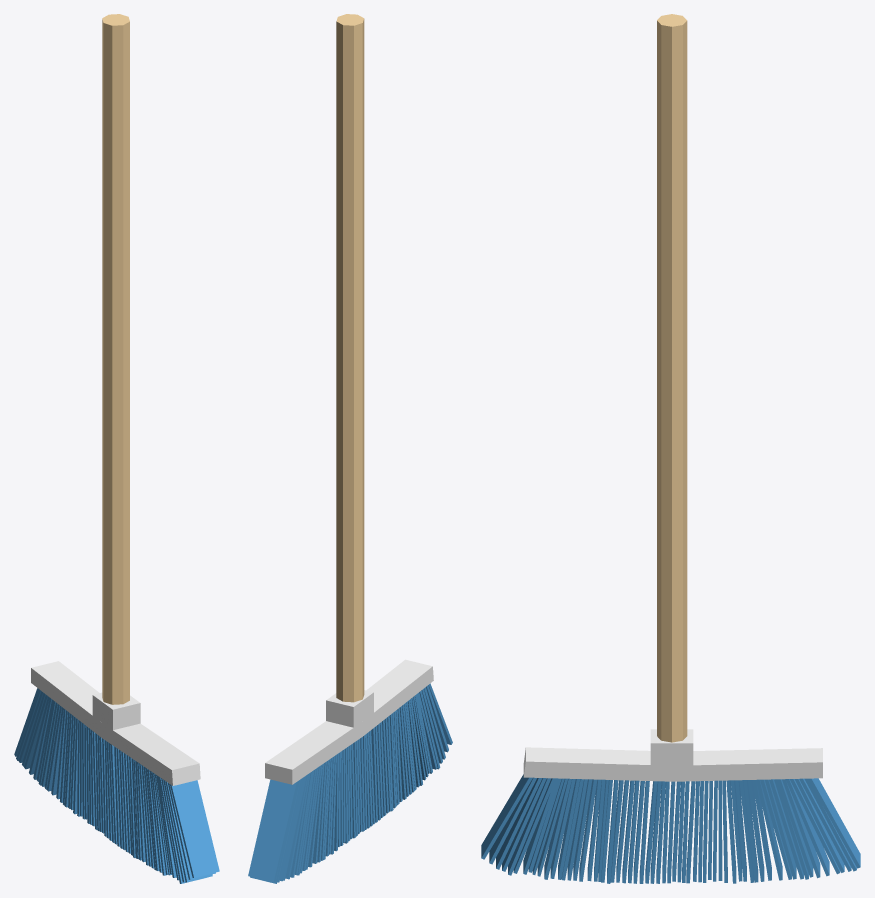
The model's file is Escoba_Azul.fbx.
3 renders of one model, left to right at view 1: azimuth 30°, elevation 25°; view 2: azimuth 150°, elevation 25°; view 3: azimuth 270°, elevation 25°, orthographic. The views are drawn at different scales.
Parts seen in each view (by area): view 1: Palo_Escoba.001, Base_escobetilla.001, Cerdas_Escobetilla.077, Base_2_escobetilla.001, Cerdas_Escobetilla.075; view 2: Palo_Escoba.001, Base_escobetilla.001, Cerdas_Escobetilla.064, Base_2_escobetilla.001; view 3: Palo_Escoba.001, Base_escobetilla.001, Base_2_escobetilla.001, Cerdas_Escobetilla.064, Cerdas_Escobetilla.077, Cerdas_Escobetilla.069.
Part boxes in pixels (<box>): Palo_Escoba.001: <box>102,14,129,704</box>; Base_escobetilla.001: <box>31,661,200,785</box>; Cerdas_Escobetilla.077: <box>169,780,219,877</box>; Base_2_escobetilla.001: <box>92,692,140,730</box>; Cerdas_Escobetilla.075: <box>165,781,212,882</box>; Palo_Escoba.001: <box>336,14,364,702</box>; Base_escobetilla.001: <box>265,659,433,784</box>; Cerdas_Escobetilla.064: <box>248,779,298,882</box>; Base_2_escobetilla.001: <box>326,690,373,727</box>; Palo_Escoba.001: <box>657,14,687,742</box>; Base_escobetilla.001: <box>523,747,822,781</box>; Base_2_escobetilla.001: <box>650,729,693,765</box>; Cerdas_Escobetilla.064: <box>808,778,860,868</box>; Cerdas_Escobetilla.077: <box>481,774,532,859</box>; Cerdas_Escobetilla.069: <box>785,779,829,876</box>.
Size of the model in its own units: 200 by 5610 by 2251.
